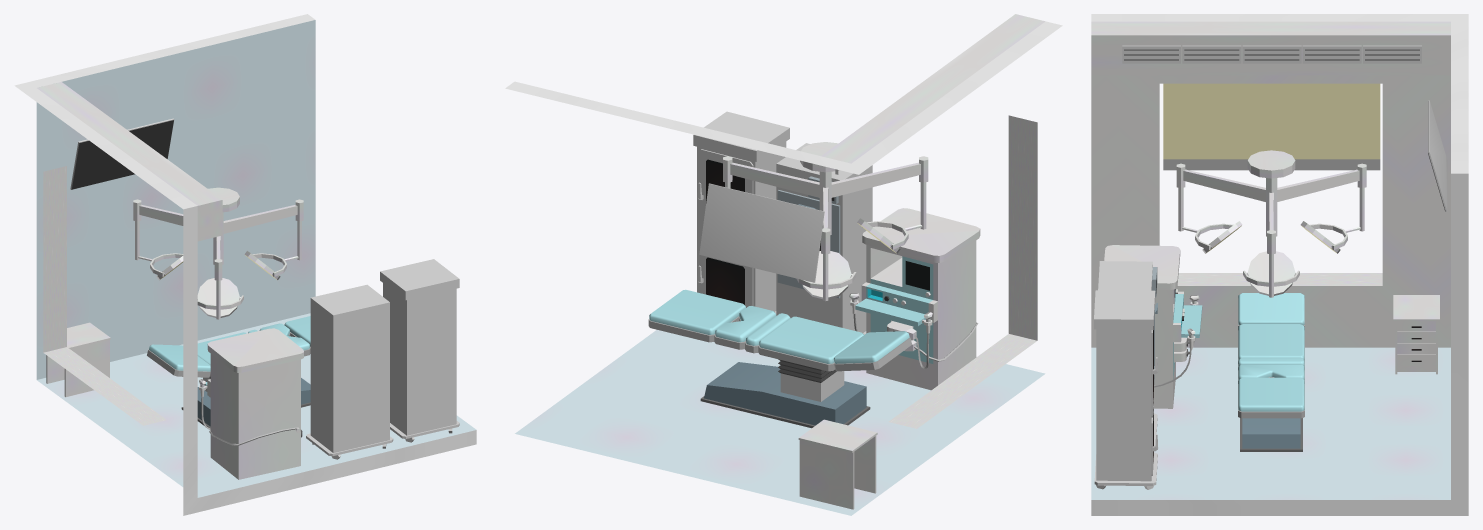
Rendered from surgery_room.glb.
3 renders of one model, left to right at view 1: azimuth 30°, elevation 25°; view 2: azimuth 150°, elevation 25°; view 3: azimuth 270°, elevation 25°, orthographic. The views are drawn at different scales.
Visible parts, largest first — view 1: wall, anesthesia_machine, equipment_cart, monitor, light, vent, bed, TV, cabinet; view 2: wall, bed, anesthesia_machine, TV, monitor, equipment_cart, light, vent, cabinet; view 3: wall, vent, curtain, monitor, bed, light, anesthesia_machine, cabinet, equipment_cart, TV.
Part boxes in pixels (box(x1,y1,x2,y2)): wall: box(14, 14, 476, 515); anesthesia_machine: box(199, 328, 303, 479); equipment_cart: box(306, 284, 393, 459); monitor: box(380, 259, 459, 442); light: box(133, 187, 303, 319); vent: box(37, 82, 222, 241); bed: box(147, 316, 310, 428); TV: box(70, 118, 174, 189); cabinet: box(46, 322, 110, 397); wall: box(505, 21, 1062, 515); bed: box(648, 289, 911, 428); anesthesia_machine: box(849, 208, 980, 390); TV: box(699, 183, 824, 282); monitor: box(693, 111, 789, 313); equipment_cart: box(776, 143, 872, 334); light: box(723, 142, 928, 301); vent: box(821, 14, 1045, 174); cabinet: box(798, 419, 877, 509); wall: box(1091, 14, 1468, 515); vent: box(1091, 21, 1450, 75); curtain: box(1163, 83, 1380, 170); monitor: box(1094, 290, 1157, 489); bed: box(1238, 293, 1304, 451); light: box(1176, 150, 1366, 297); anesthesia_machine: box(1104, 245, 1202, 408); cabinet: box(1393, 295, 1439, 374); equipment_cart: box(1098, 261, 1157, 445); TV: box(1428, 100, 1447, 211).
Size of the model in its own units: 4.33 by 4.19 by 4.19.
1 material, 1 textured.
